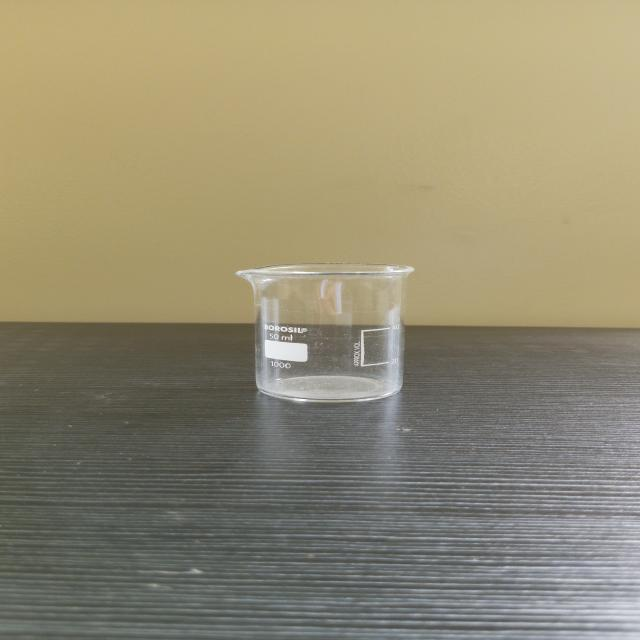beaker: (228, 256, 419, 406)
